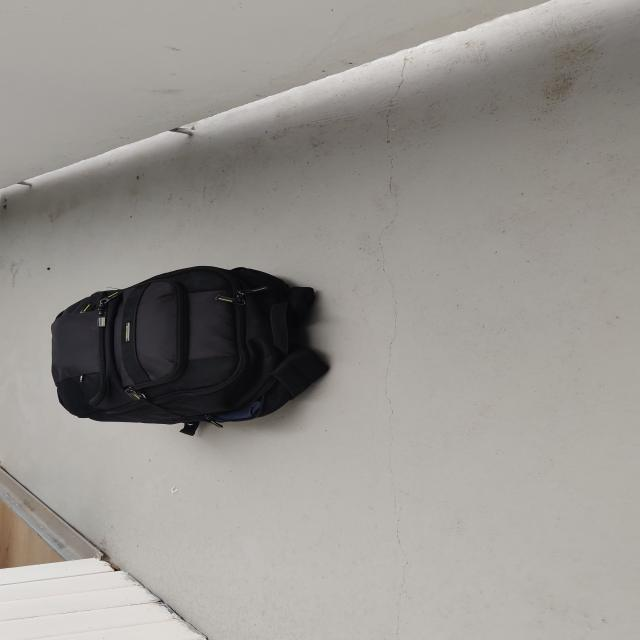backpack: (38, 258, 340, 432)
